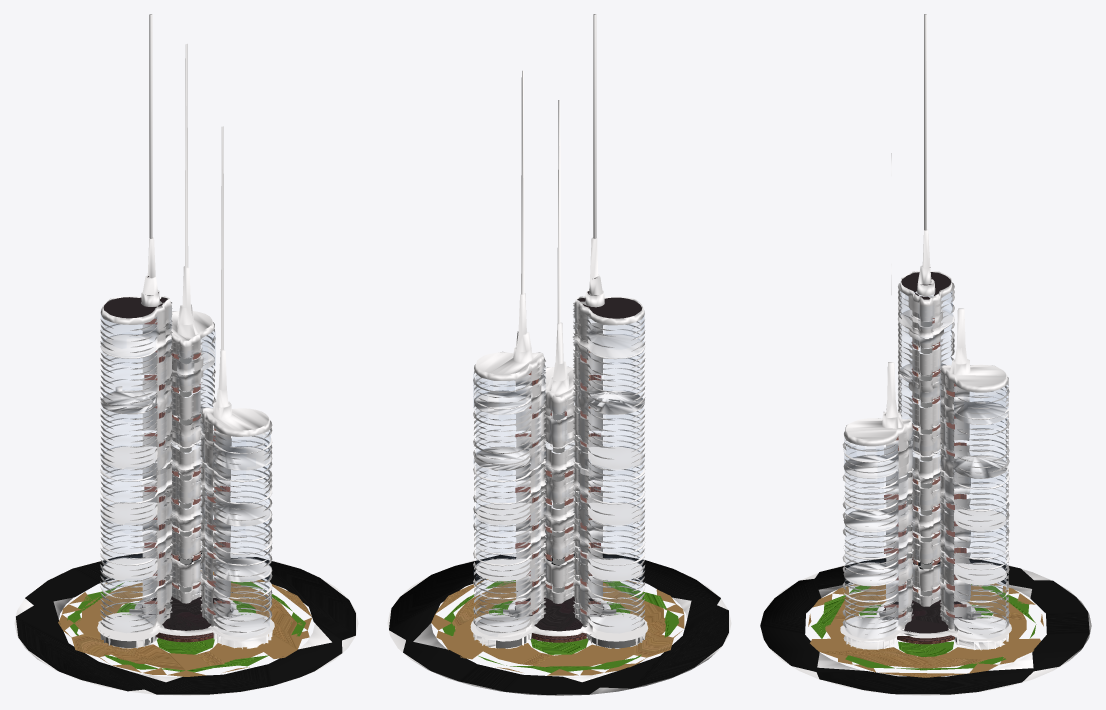
The model's file is building-8.glb.
3 views of the same model, side by side, from view 1: azimuth 30°, elevation 25°; view 2: azimuth 150°, elevation 25°; view 3: azimuth 270°, elevation 25° (orthographic). The views are drawn at different scales.
Parts seen in each view (by area): view 1: part_00, part_09, part_04, part_03, part_01, part_08, part_06, part_07, part_02, part_10, part_05; view 2: part_00, part_09, part_04, part_01, part_03, part_08, part_06, part_07, part_02, part_10, part_05; view 3: part_00, part_09, part_04, part_03, part_01, part_08, part_06, part_02, part_07, part_10, part_05.
Part boxes in pixels (x1,y1,x2,y2): part_00: (14, 44, 358, 695); part_09: (16, 551, 355, 694); part_04: (101, 317, 270, 624); part_03: (58, 570, 311, 676); part_01: (100, 318, 271, 648); part_08: (67, 581, 305, 672); part_06: (144, 318, 230, 642); part_07: (103, 322, 206, 647); part_02: (141, 596, 231, 630); part_10: (149, 14, 152, 238); part_05: (103, 276, 167, 318); part_00: (387, 70, 731, 695); part_09: (389, 553, 728, 694); part_04: (473, 316, 644, 622); part_01: (473, 311, 645, 647); part_03: (431, 571, 684, 675); part_08: (442, 580, 678, 672); part_06: (515, 351, 601, 642); part_07: (496, 322, 639, 648); part_02: (515, 596, 603, 631); part_10: (593, 14, 596, 238); part_05: (577, 278, 641, 318); part_00: (760, 153, 1091, 695); part_09: (760, 558, 1089, 694); part_04: (844, 292, 1007, 625); part_03: (808, 583, 1043, 677); part_01: (842, 292, 1009, 634); part_08: (811, 584, 1036, 670); part_06: (884, 318, 966, 644); part_02: (883, 600, 961, 633); part_07: (907, 320, 956, 642); part_10: (924, 14, 926, 230); part_05: (901, 267, 951, 299).
Bounding box in the file's own units: 977 × 1933 × 977.
Materials: 9 (6 with a texture image).
